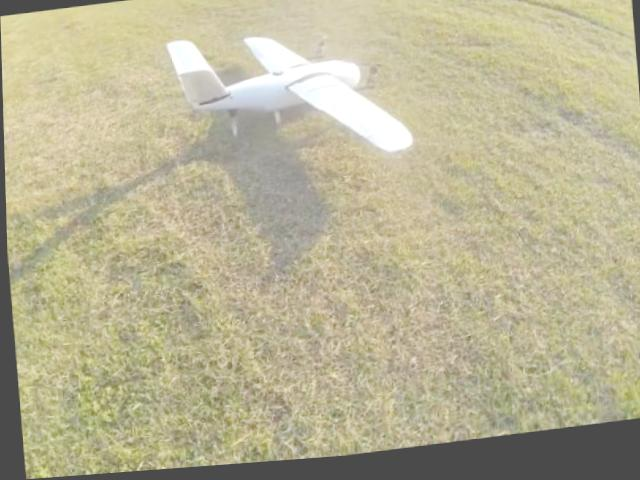uav: (152, 0, 423, 202)
